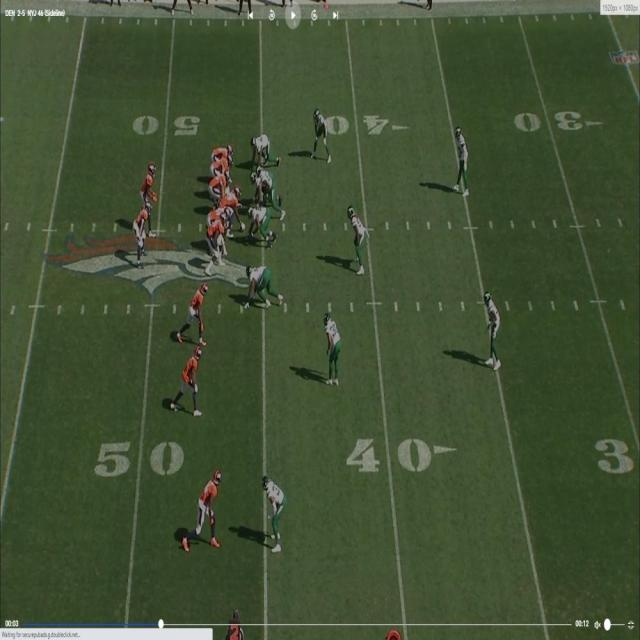center: (226, 184, 244, 222)
db: (260, 471, 282, 550), (483, 292, 499, 372), (324, 312, 339, 383), (456, 128, 469, 195)
lb: (348, 206, 367, 273), (312, 106, 329, 149)
qb: (141, 159, 155, 202)
skill: (175, 344, 203, 416), (195, 472, 220, 548), (183, 279, 207, 346), (133, 205, 151, 267), (209, 146, 233, 157)
